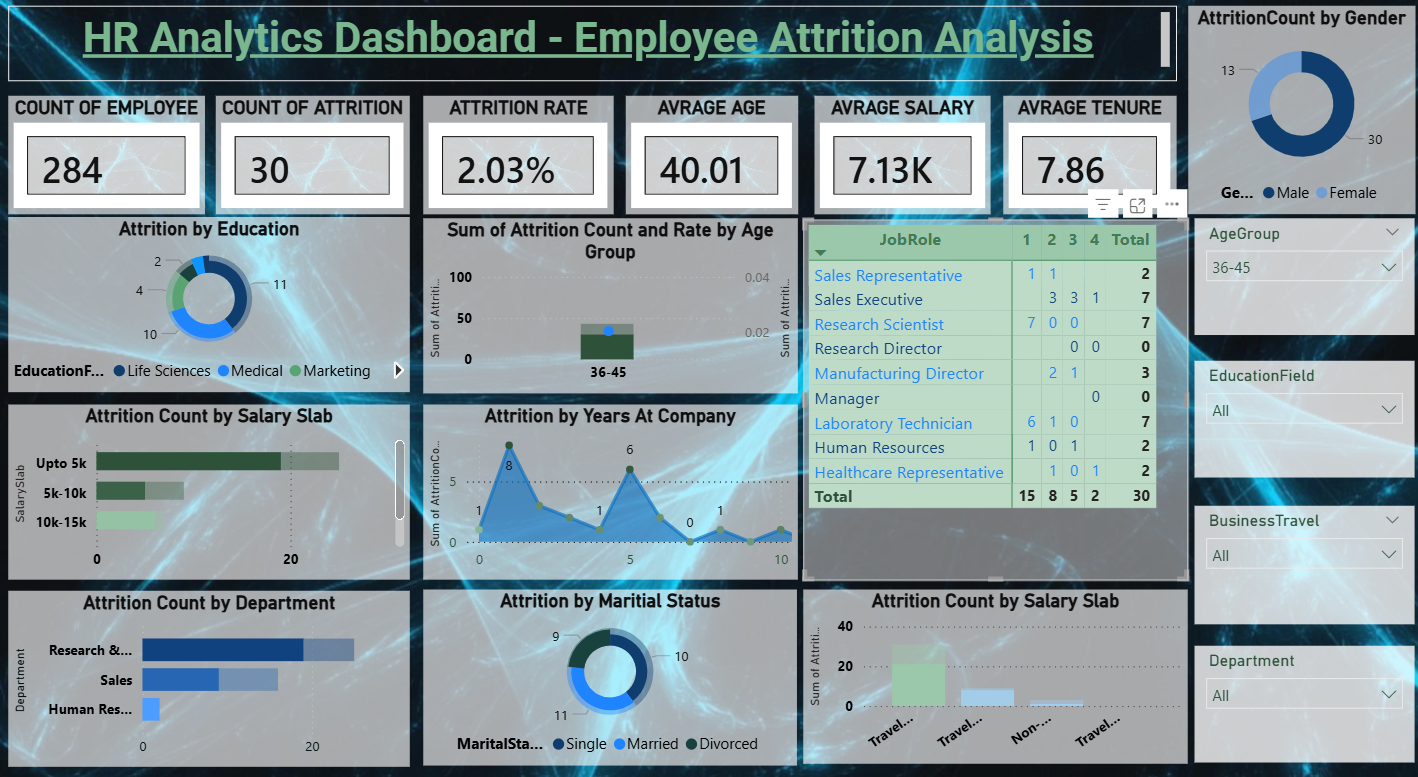

The page's visual inventory and layout, read from the dashboard file:
{"tool":"powerbi","page":{"name":"Page 1","canvas":[1280,720],"ordinal":0},"visuals":[{"type":"cardVisual","title":"COUNT OF EMPLOYEE","fields":{"Data":["CountNonNull(HR_Analytics.EmployeeCount)"]},"box":[14.2,96.6,175.1,105.6],"z":0},{"type":"textbox","box":[14.2,16.7,1040.5,67],"z":1000},{"type":"cardVisual","title":"COUNT OF ATTRITION","fields":{"Data":["Sum(HR_Analytics.AttritionCount)1"]},"box":[199.6,96.6,172.6,105.6],"z":2000},{"type":"cardVisual","title":"ATTRITION RATE","fields":{"Data":["Sum(HR_Analytics.AttritionRate)"]},"box":[383.7,96.6,170,105.6],"z":3000},{"type":"cardVisual","title":"AVRAGE AGE","fields":{"Data":["Avg(HR_Analytics.Age)"]},"box":[564,96.6,153.2,105.6],"z":4000},{"type":"cardVisual","title":"AVRAGE SALARY","fields":{"Data":["Avg(HR_Analytics.MonthlyIncome)"]},"box":[732.7,96.6,157.1,105.6],"z":5000},{"type":"cardVisual","title":"AVRAGE TENURE","fields":{"Data":["Avg(HR_Analytics.YearsAtCompany)"]},"box":[900.1,96.6,154.5,105.6],"z":6000},{"type":"donutChart","title":"AttritionCount by Gender","fields":{"Category":["HR_Analytics.Gender"],"Y":["Sum(HR_Analytics.AttritionCount)"]},"box":[1064.9,16.7,202.2,185.4],"z":7000},{"type":"donutChart","title":"Attrition by Education","fields":{"Category":["HR_Analytics.EducationField","HR_Analytics.YearsAtCompany"],"Y":["Sum(HR_Analytics.AttritionCount)"]},"box":[14.2,204.7,358,155.8],"z":8000},{"type":"lineStackedColumnComboChart","title":"Sum of Attrition Count and Rate by Age Group","fields":{"Category":["HR_Analytics.AgeGroup"],"Y":["Sum(HR_Analytics.AttritionCount)"],"Y2":["Sum(HR_Analytics.Attrition Rate)"]},"box":[383.7,206,333.5,155.8],"z":9000},{"type":"pivotTable","fields":{"Rows":["HR_Analytics.JobRole"],"Columns":["HR_Analytics.JobLevel"],"Values":["Sum(HR_Analytics.AttritionCount)"]},"box":[722,206.6,342.9,322],"z":10000},{"type":"barChart","title":"Attrition Count by Salary Slab","fields":{"Y":["Sum(HR_Analytics.AttritionCount)"],"Category":["HR_Analytics.SalarySlab"]},"box":[14.2,372.2,358,155.8],"z":11000},{"type":"areaChart","title":"Attrition by Years At Company","fields":{"Category":["HR_Analytics.YearsAtCompany"],"Y":["Sum(HR_Analytics.AttritionCount)"]},"box":[383.7,372.2,333.5,155.8],"z":12000},{"type":"barChart","title":"Attrition Count by Department","fields":{"Y":["Sum(HR_Analytics.AttritionCount)"],"Category":["HR_Analytics.Department"]},"box":[13.9,537.7,358,156.5],"z":13000},{"type":"donutChart","title":"Attrition by Maritial Status","fields":{"Y":["Sum(HR_Analytics.AttritionCount)"],"Category":["HR_Analytics.MaritalStatus"]},"box":[384.3,536.2,333.2,156.5],"z":14000},{"type":"columnChart","title":"Attrition Count by Salary Slab","fields":{"Y":["Sum(HR_Analytics.AttritionCount)"],"Category":["HR_Analytics.BusinessTravel"]},"box":[722.1,536.2,342.5,155],"z":15000},{"type":"slicer","fields":{"Values":["HR_Analytics.Department"]},"box":[1071.4,586.8,195.6,104.4],"z":16000},{"type":"slicer","fields":{"Values":["HR_Analytics.BusinessTravel"]},"box":[1071.4,461.5,195.6,105.5],"z":17000},{"type":"slicer","fields":{"Values":["HR_Analytics.AgeGroup"]},"box":[1071.4,205.5,195.6,104.4],"z":18000},{"type":"slicer","fields":{"Values":["HR_Analytics.EducationField"]},"box":[1071.4,333,195.6,104.4],"z":19000}]}

Visuals, with their boxes in screenshot pixels (x1, y1, x2, y2), scaled from the page's 1280x720 canvas onto the 1418x777 screenshot:
"COUNT OF EMPLOYEE" cardVisual: bbox(16, 104, 210, 218)
textbox: bbox(16, 18, 1168, 90)
"COUNT OF ATTRITION" cardVisual: bbox(221, 104, 412, 218)
"ATTRITION RATE" cardVisual: bbox(425, 104, 613, 218)
"AVRAGE AGE" cardVisual: bbox(625, 104, 795, 218)
"AVRAGE SALARY" cardVisual: bbox(812, 104, 986, 218)
"AVRAGE TENURE" cardVisual: bbox(997, 104, 1168, 218)
"AttritionCount by Gender" donutChart: bbox(1180, 18, 1404, 218)
"Attrition by Education" donutChart: bbox(16, 221, 412, 389)
"Sum of Attrition Count and Rate by Age Group" lineStackedColumnComboChart: bbox(425, 222, 795, 390)
pivotTable - HR_Analytics.JobRole x HR_Analytics.JobLevel: bbox(800, 223, 1180, 570)
"Attrition Count by Salary Slab" barChart: bbox(16, 402, 412, 570)
"Attrition by Years At Company" areaChart: bbox(425, 402, 795, 570)
"Attrition Count by Department" barChart: bbox(15, 580, 412, 749)
"Attrition by Maritial Status" donutChart: bbox(426, 579, 795, 748)
"Attrition Count by Salary Slab" columnChart: bbox(800, 579, 1179, 746)
slicer - HR_Analytics.Department: bbox(1187, 633, 1404, 746)
slicer - HR_Analytics.BusinessTravel: bbox(1187, 498, 1404, 612)
slicer - HR_Analytics.AgeGroup: bbox(1187, 222, 1404, 334)
slicer - HR_Analytics.EducationField: bbox(1187, 359, 1404, 472)
